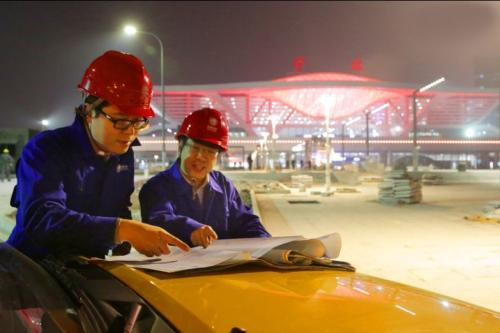gloves: (113, 217, 191, 256), (189, 223, 218, 248)
hard-hat: (77, 49, 155, 117), (175, 107, 229, 152)
person: (5, 48, 191, 260), (137, 107, 272, 249)
ppe-suit: (5, 112, 141, 260), (137, 159, 272, 247)
